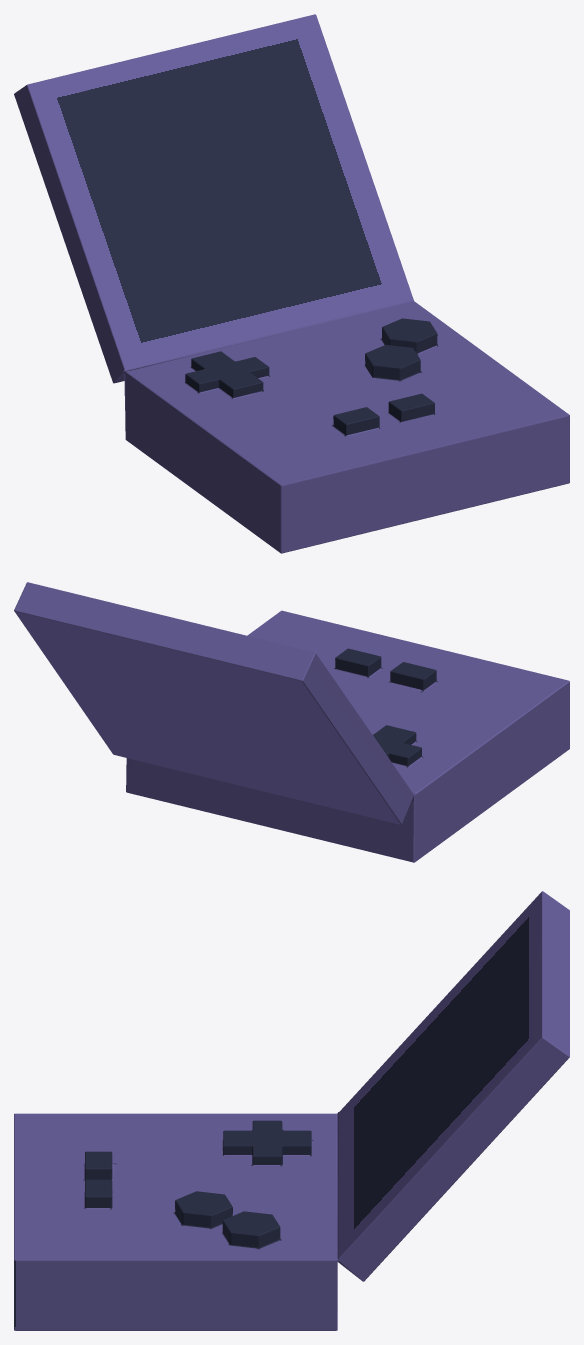
File: gameboy_advance.glb
3 views of the same model, one above another, from view 1: azimuth 30°, elevation 25°; view 2: azimuth 150°, elevation 25°; view 3: azimuth 270°, elevation 25° (orthographic). The views are drawn at different scales.
Parts seen in each view (by area): view 1: Gameboy.Advance; view 2: Gameboy.Advance; view 3: Gameboy.Advance.
Boxes of the visible parts, <box> form: Gameboy.Advance: <box>14,14,569,553</box>; Gameboy.Advance: <box>14,582,569,862</box>; Gameboy.Advance: <box>14,891,569,1330</box>.
Bounding box in the file's own units: 0.0902 × 0.0838 × 0.1436.
1 material, 1 textured.
